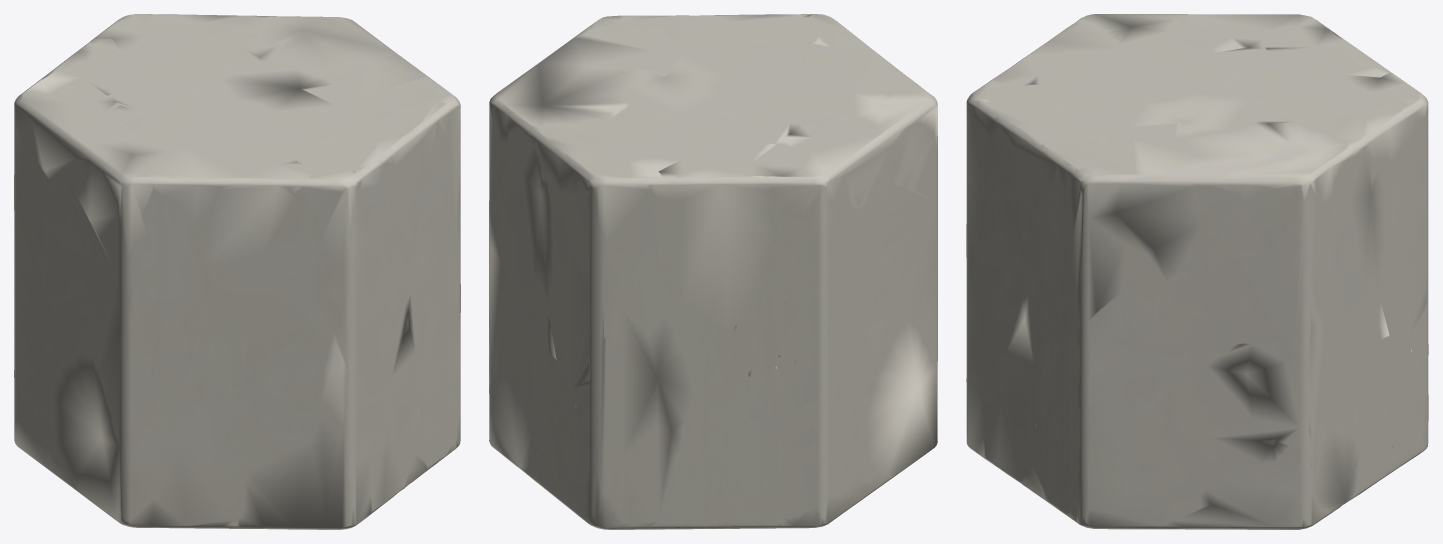
File: bk-struct-tier-hex.glb
3 views of the same model, side by side, from view 1: azimuth 30°, elevation 25°; view 2: azimuth 150°, elevation 25°; view 3: azimuth 270°, elevation 25° (orthographic).
Parts seen in each view (by area): view 1: node_0; view 2: node_0; view 3: node_0.
Part boxes in pixels (x1=…): node_0: x1=14, y1=14, x2=460, y2=529; node_0: x1=489, y1=14, x2=937, y2=529; node_0: x1=966, y1=14, x2=1428, y2=529.
Size of the model in its own units: 0.7983 by 0.7842 by 0.9287.
1 material, 1 textured.
